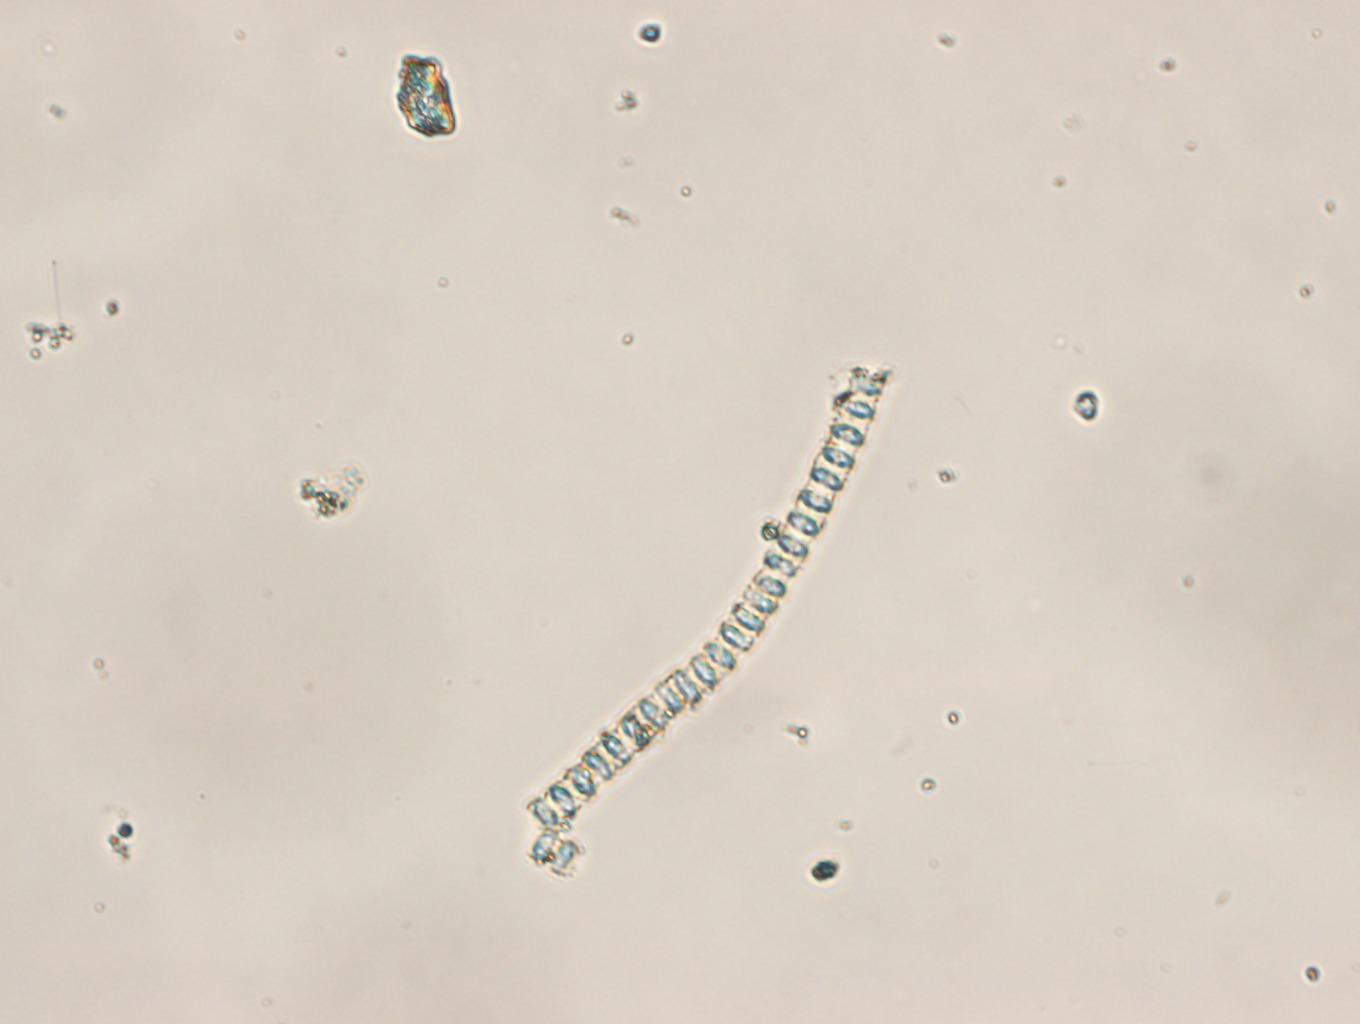skeletonema: (526, 360, 888, 834)
